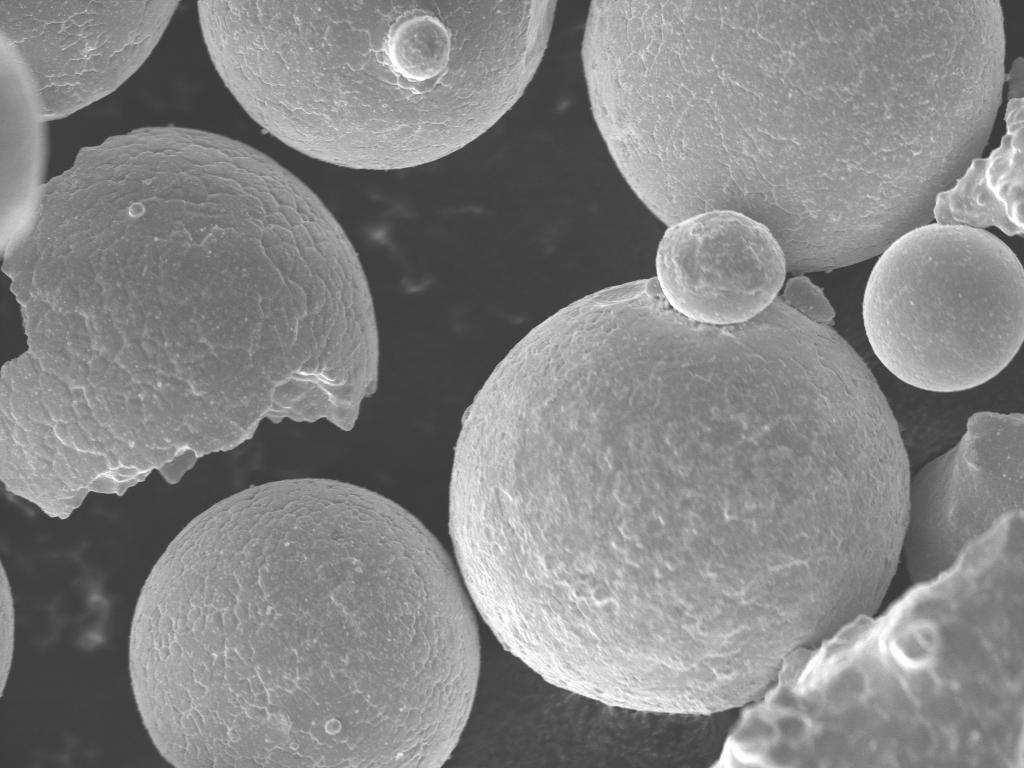Powder: (450, 210, 910, 713), (0, 128, 378, 517), (582, 0, 1004, 273), (130, 480, 480, 766), (716, 510, 1024, 766), (200, 0, 556, 167), (864, 58, 1024, 392), (0, 0, 178, 120), (904, 414, 1024, 581), (0, 36, 46, 255)
